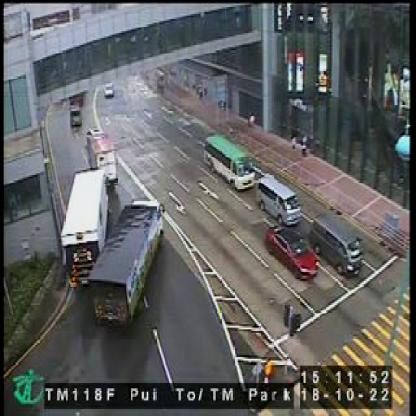Car: (311, 212, 364, 278), (265, 225, 322, 281), (258, 174, 302, 226), (70, 107, 84, 128), (102, 80, 116, 98)
Minibus: (204, 133, 256, 193)
Truck: (90, 198, 166, 330), (61, 171, 113, 284), (82, 128, 119, 183)
